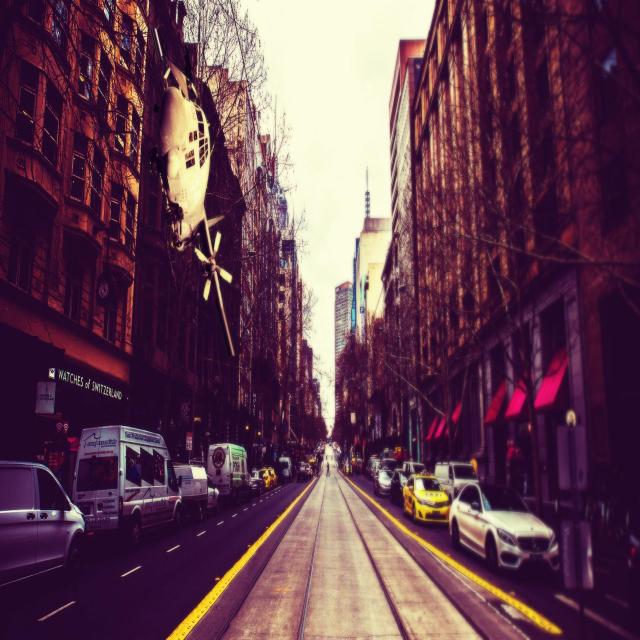airplane: (147, 27, 236, 357)
